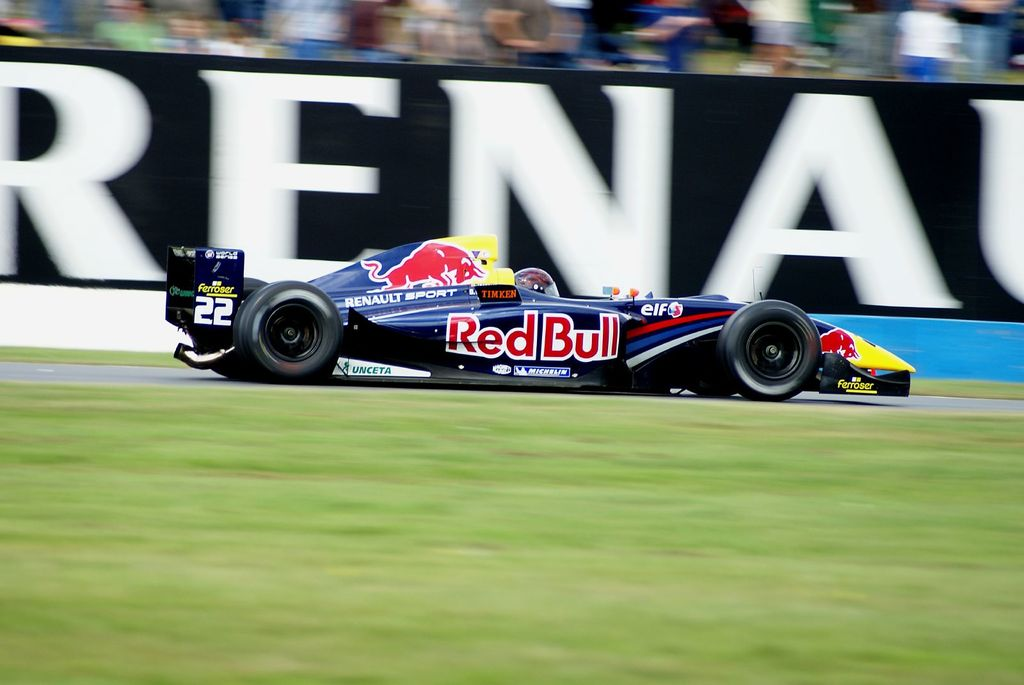Car: (193, 219, 885, 398)
